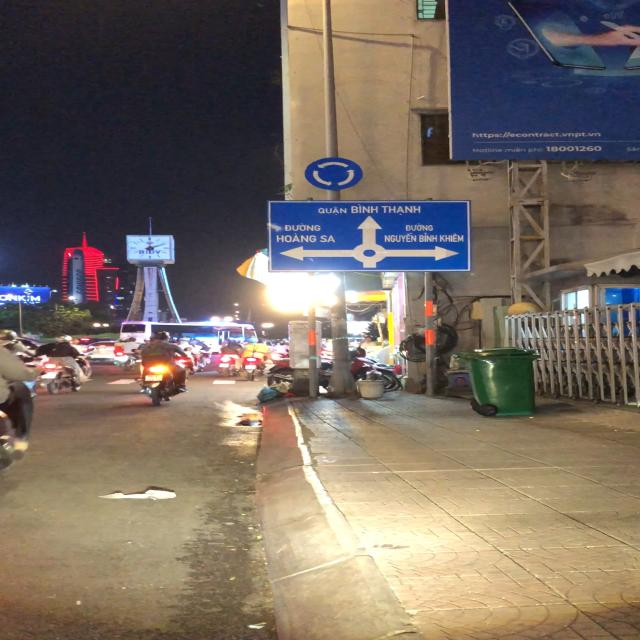Bien bao noi giao nhau chay theo vong xuyen: (304, 156, 368, 191)
